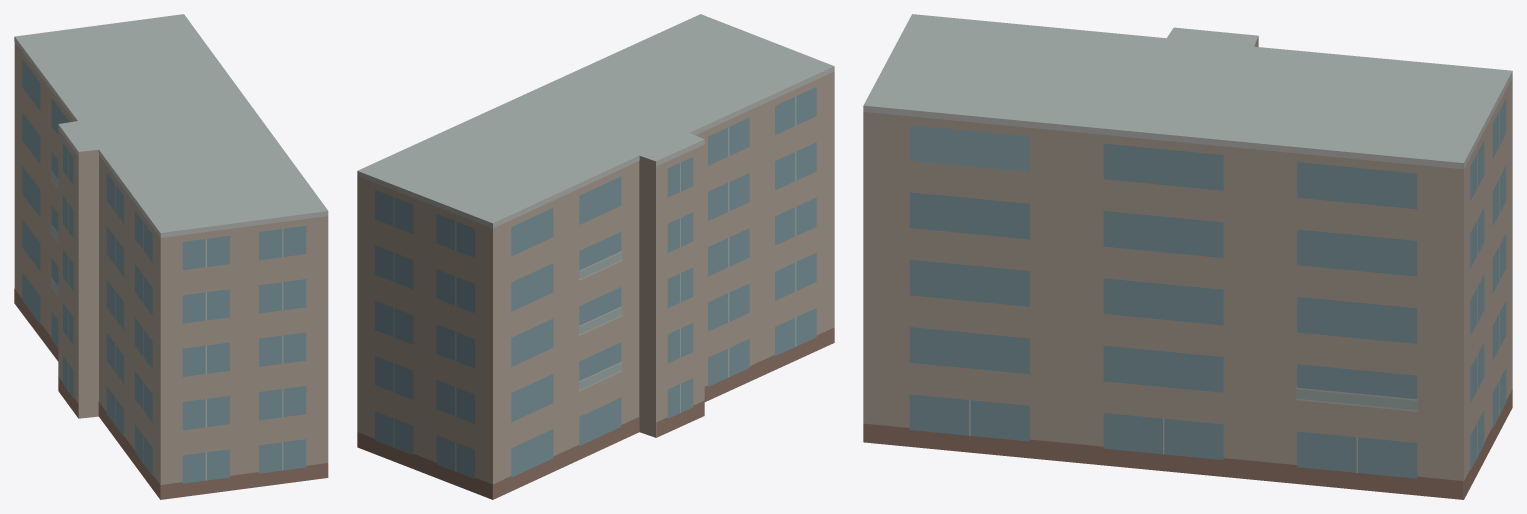
File: survey-upis-32880097.glb
3 renders of one model, left to right at view 1: azimuth 30°, elevation 25°; view 2: azimuth 150°, elevation 25°; view 3: azimuth 270°, elevation 25°, orthographic. The views are drawn at different scales.
Parts seen in each view (by area): view 1: survey-upis-32880097.tmp; view 2: survey-upis-32880097.tmp; view 3: survey-upis-32880097.tmp.
Part boxes in pixels (x1=…): survey-upis-32880097.tmp: x1=14, y1=14, x2=328, y2=499; survey-upis-32880097.tmp: x1=357, y1=14, x2=834, y2=499; survey-upis-32880097.tmp: x1=863, y1=14, x2=1512, y2=499.
Bounding box in the file's own units: 12.45 × 13.1 × 22.9.
